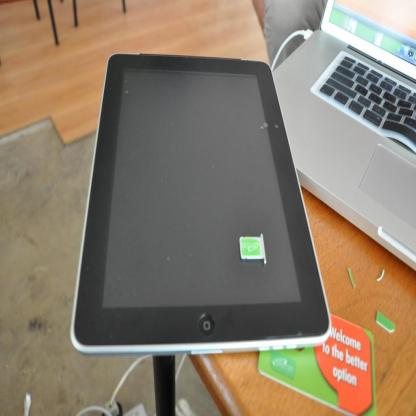board: (293, 0, 416, 268)
